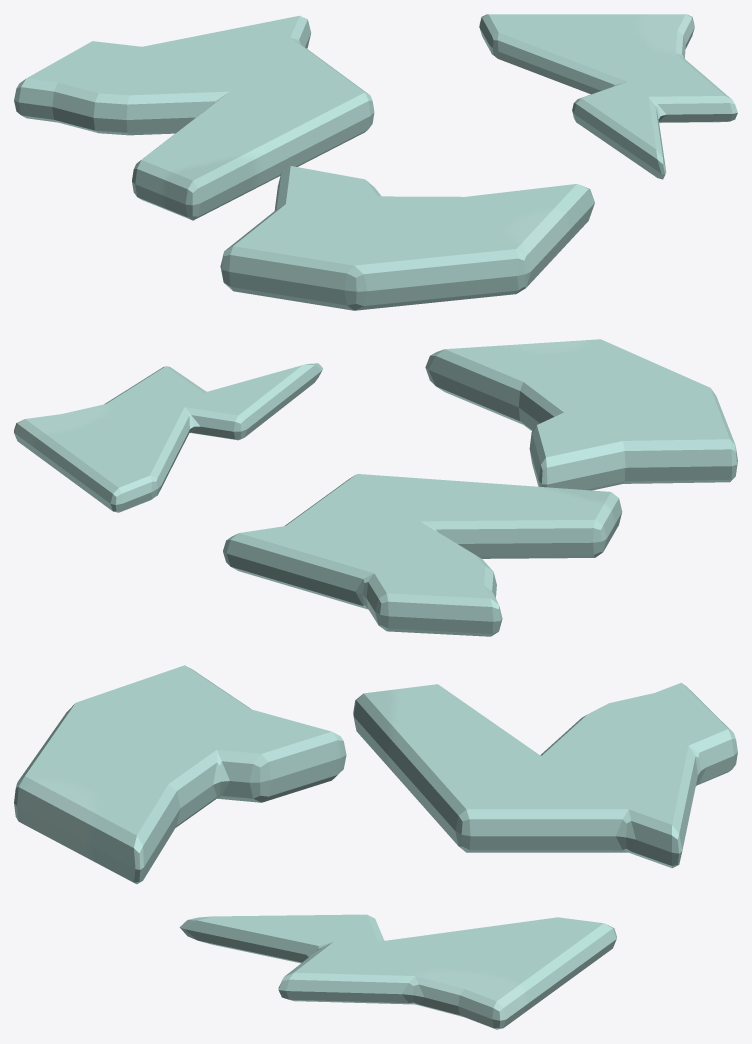
The model's file is Mod_Glassbreak_02.fbx.
The picture shows the model from 3 angles, top to bottom: view 1: azimuth 30°, elevation 25°; view 2: azimuth 150°, elevation 25°; view 3: azimuth 270°, elevation 25°; orthographic projection. The views are drawn at different scales.
Visible parts, largest first — view 1: Mod_Glassbreak_02; view 2: Mod_Glassbreak_02; view 3: Mod_Glassbreak_02.
Part boxes in pixels (x1,y1,x2,y2): Mod_Glassbreak_02: [14, 14, 737, 310]; Mod_Glassbreak_02: [14, 339, 737, 636]; Mod_Glassbreak_02: [14, 665, 737, 1029].
Bounding box in the file's own units: 76.41 × 5.37 × 71.71.
